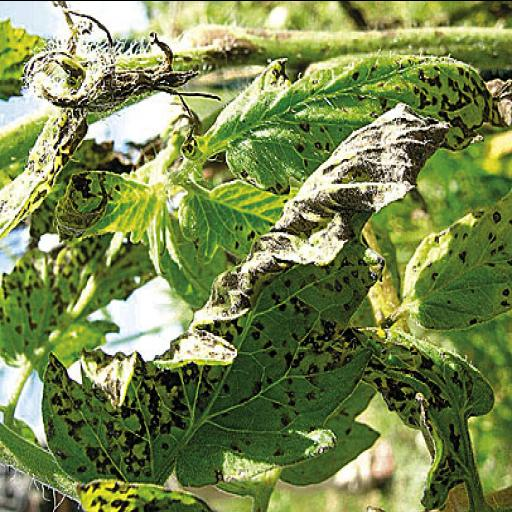Septoria: (50, 96, 452, 492), (203, 44, 507, 194), (336, 323, 495, 512), (0, 233, 156, 385), (401, 182, 512, 336)
